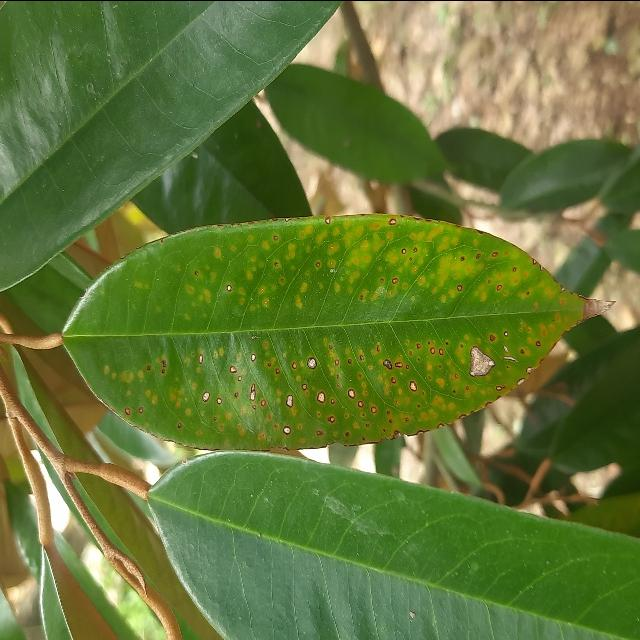Leaf Spot: (39, 207, 629, 457)
